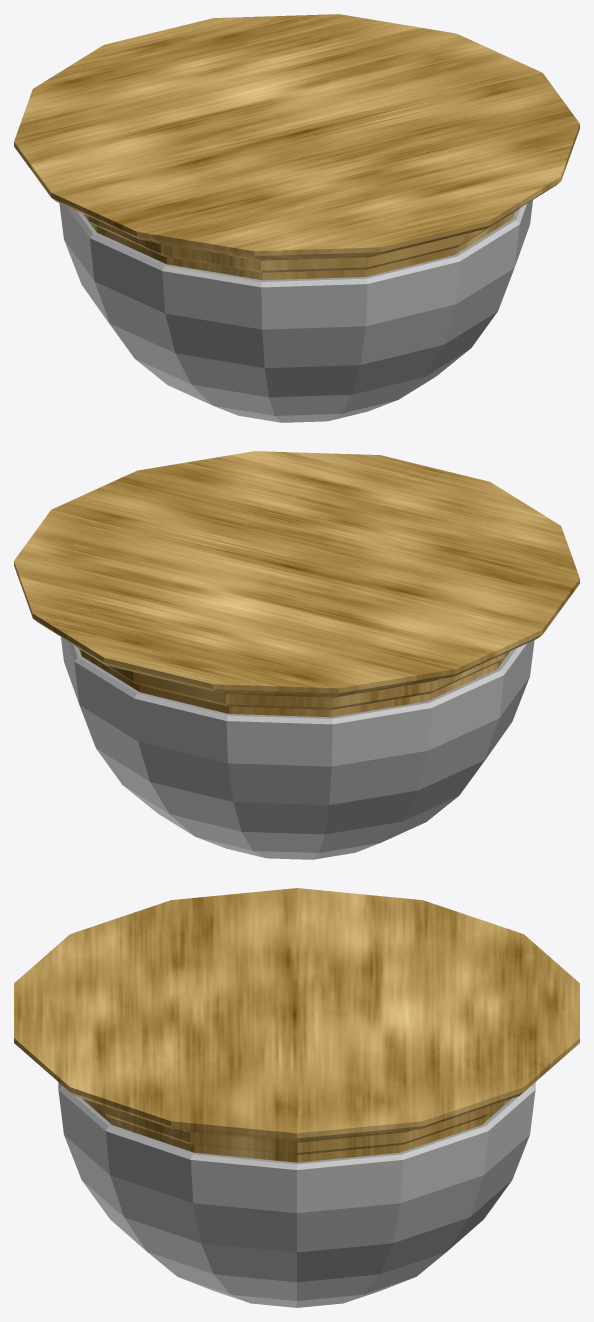
The model's file is Misc_CeilingLamp.fbx.
3 renders of one model, top to bottom at view 1: azimuth 30°, elevation 25°; view 2: azimuth 150°, elevation 25°; view 3: azimuth 270°, elevation 25°, orthographic. The views are drawn at different scales.
Visible parts, largest first — view 1: light:pSphere3; view 2: light:pSphere3; view 3: light:pSphere3.
Part boxes in pixels (x1,y1,x2,y2): light:pSphere3: (14, 14, 579, 422); light:pSphere3: (14, 451, 579, 859); light:pSphere3: (14, 888, 579, 1307).
Bounding box in the file's own units: 2.37 × 1.28 × 2.31.
